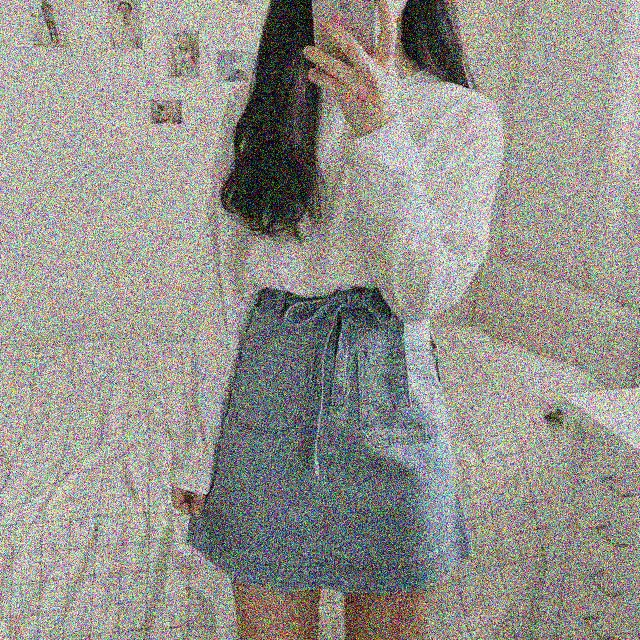Miniskirt: (186, 283, 474, 640)
